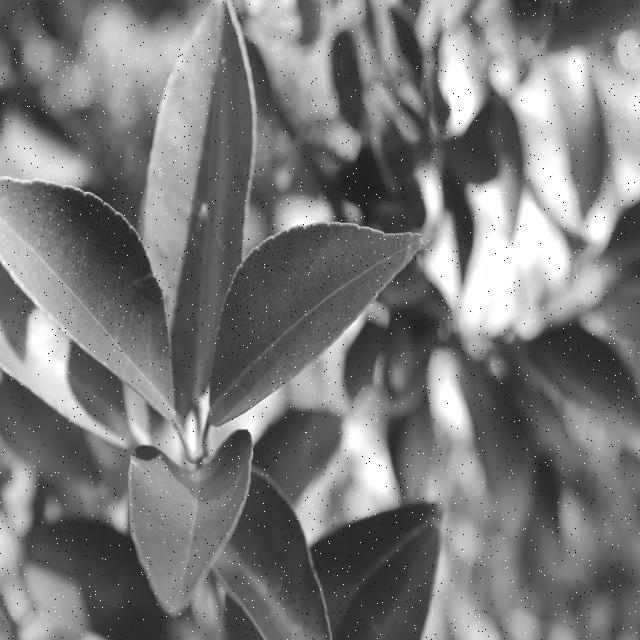healthy: (215, 216, 421, 438), (0, 165, 177, 418), (132, 439, 254, 593)
